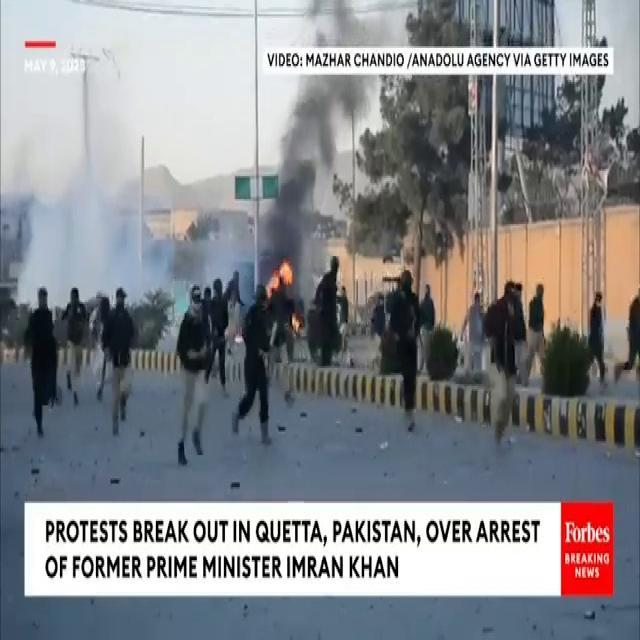Fire: (266, 252, 298, 300)
Smoke: (9, 100, 164, 312), (257, 1, 379, 270)
